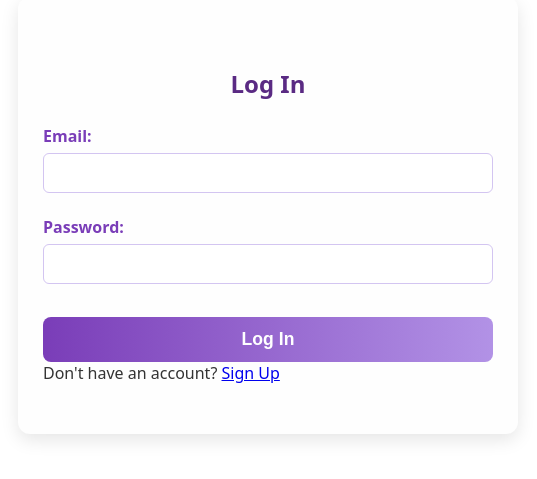
Test: Login Component › shows error on failed login
Type "test@example.com" into the field labelled "Email:" at x=268, y=173, box [43,153,493,193]
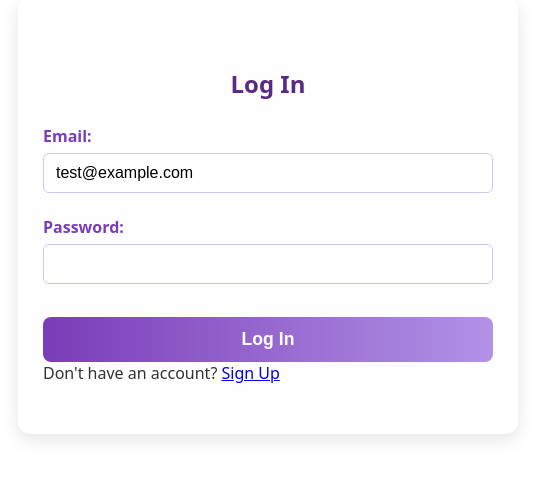
Type "wrongpassword" into the password field labelled "Password:" at x=268, y=264, box [43,244,493,284]
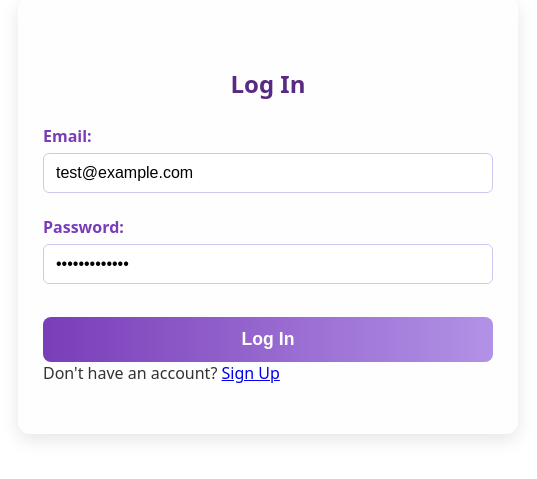
Click the button "Log In" at x=268, y=339, box [43,317,493,362]
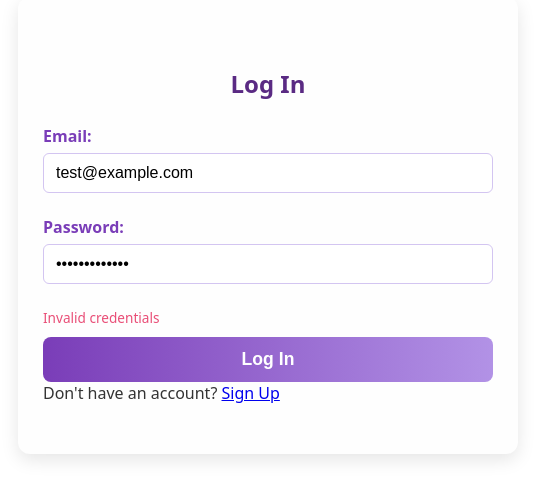
Check: the text "Invalid credentials" is shown, box [43,308,160,327]
